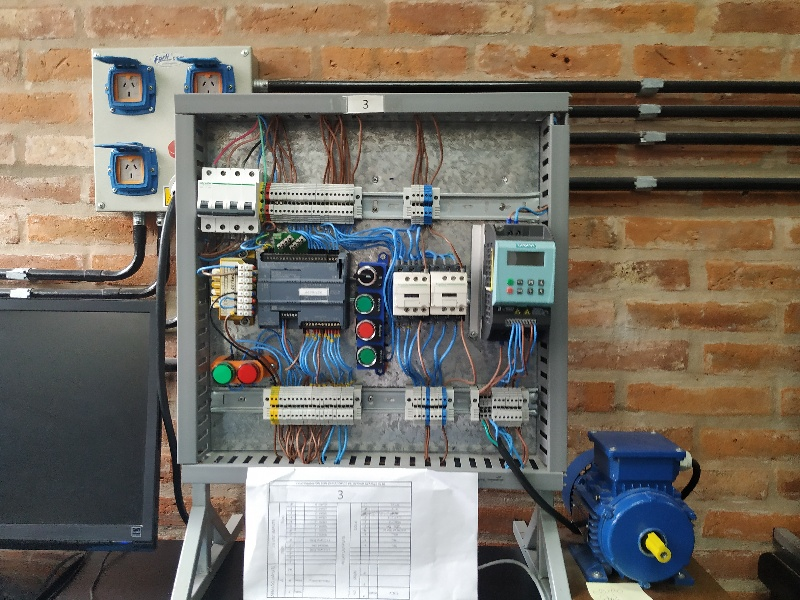Tablero 3: (189, 107, 559, 473)
